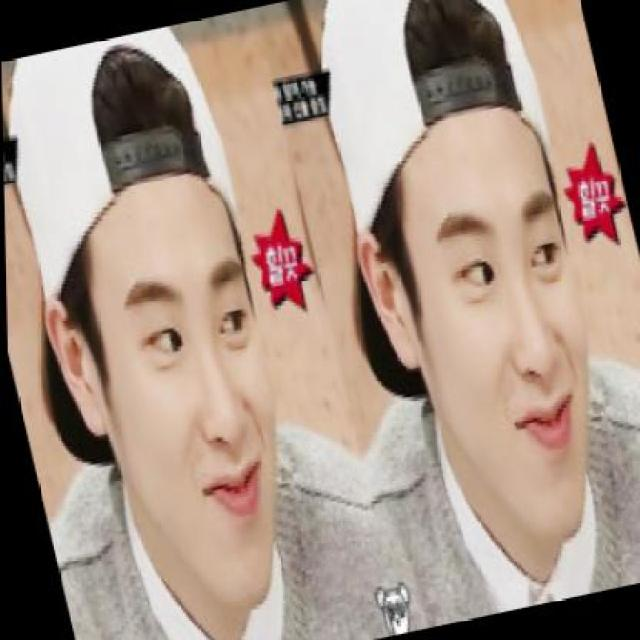hat: (278, 0, 604, 415), (1, 28, 288, 478)
